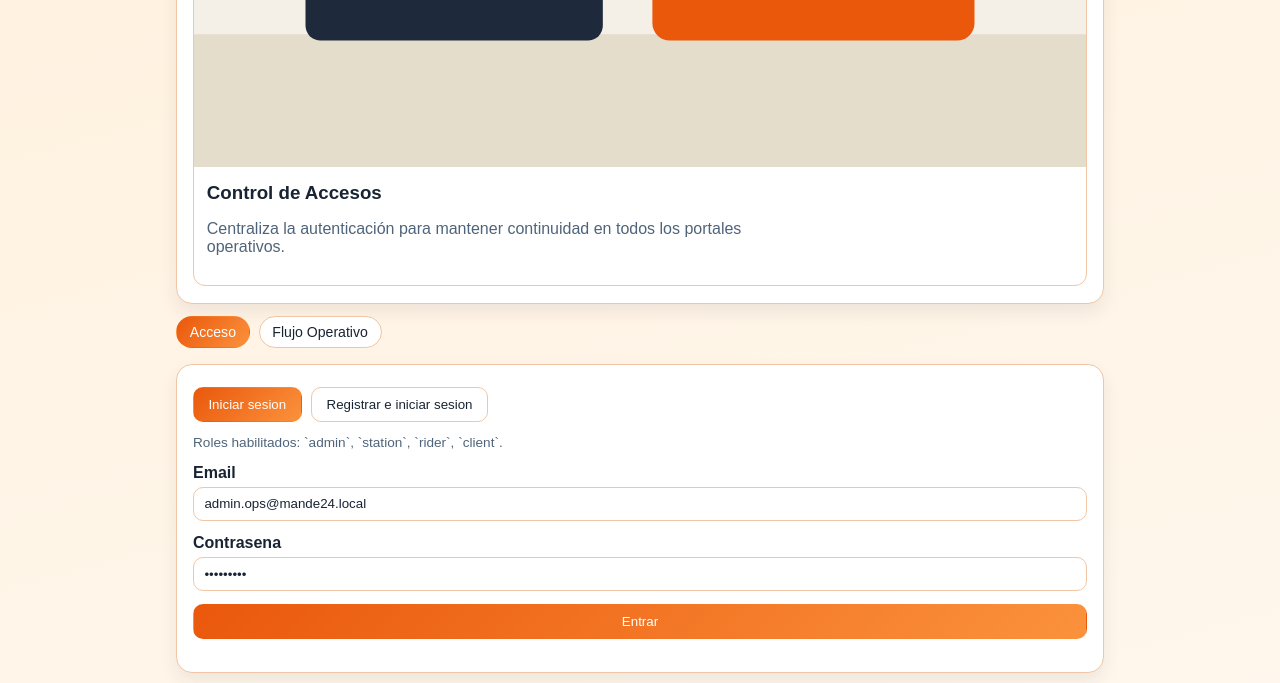
Scenario: portal interactions › auth page stores token on successful login
The width and height of the screenshot is (1280, 683).
(page scrolled)
Click the button "Entrar": (640, 622) [193,604,1087,639]
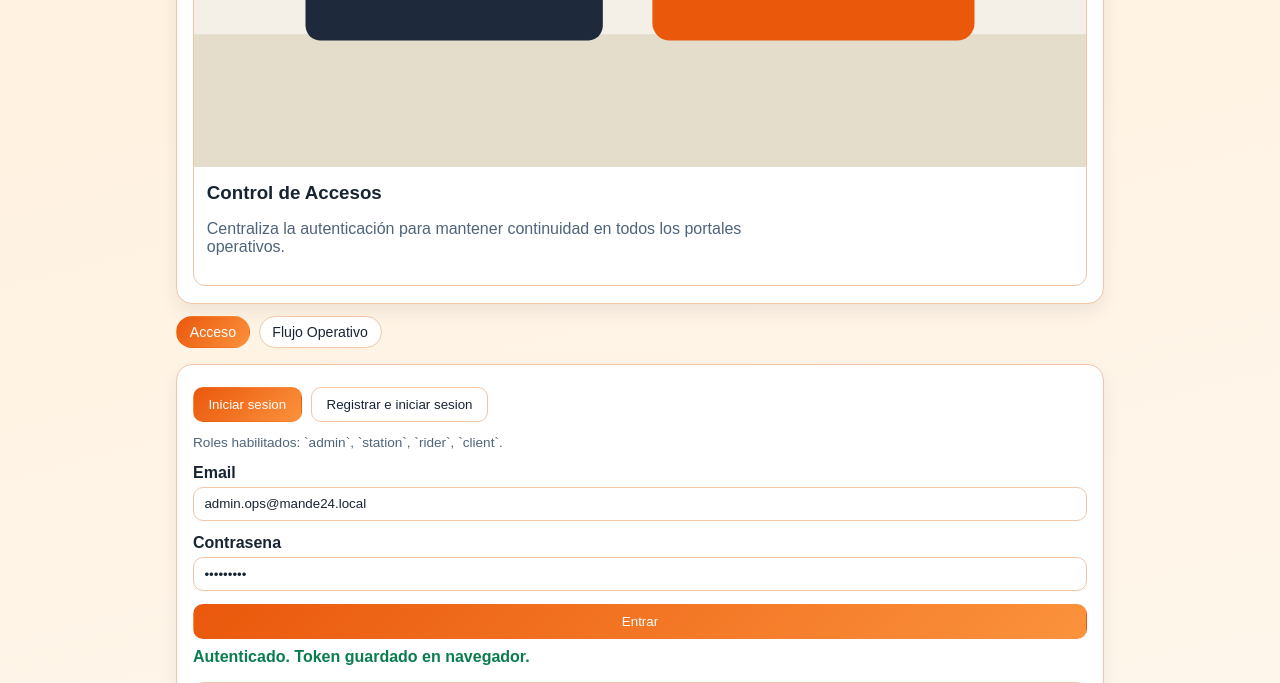
Result: the text "Autenticado. Token guardado en navegador." is shown at [193,648,530,665]
